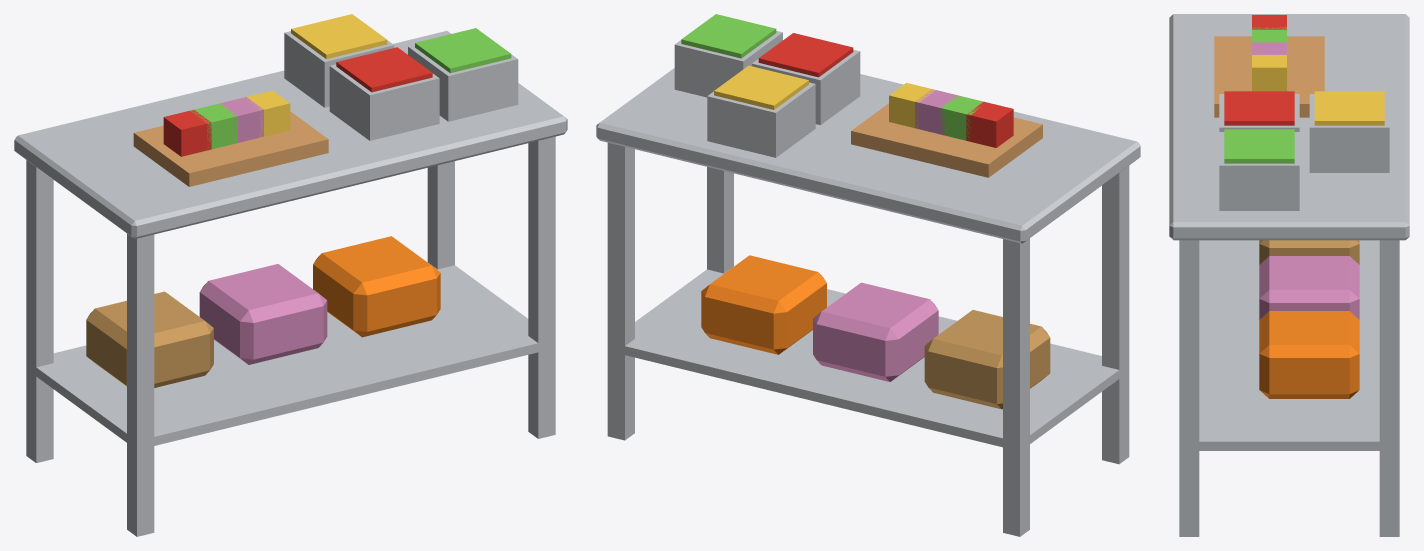
File: PrepTable.fbx
3 renders of one model, left to right at view 1: azimuth 30°, elevation 25°; view 2: azimuth 150°, elevation 25°; view 3: azimuth 270°, elevation 25°, orthographic.
Visible parts, largest first — view 1: PrepTable; view 2: PrepTable; view 3: PrepTable.
Part boxes in pixels (<box>): PrepTable: <box>14,14,567,536</box>; PrepTable: <box>596,14,1140,536</box>; PrepTable: <box>1169,14,1409,536</box>.
Bounding box in the file's own units: 5 × 4.05 × 2.4.
Materials: 1 (1 with a texture image).
